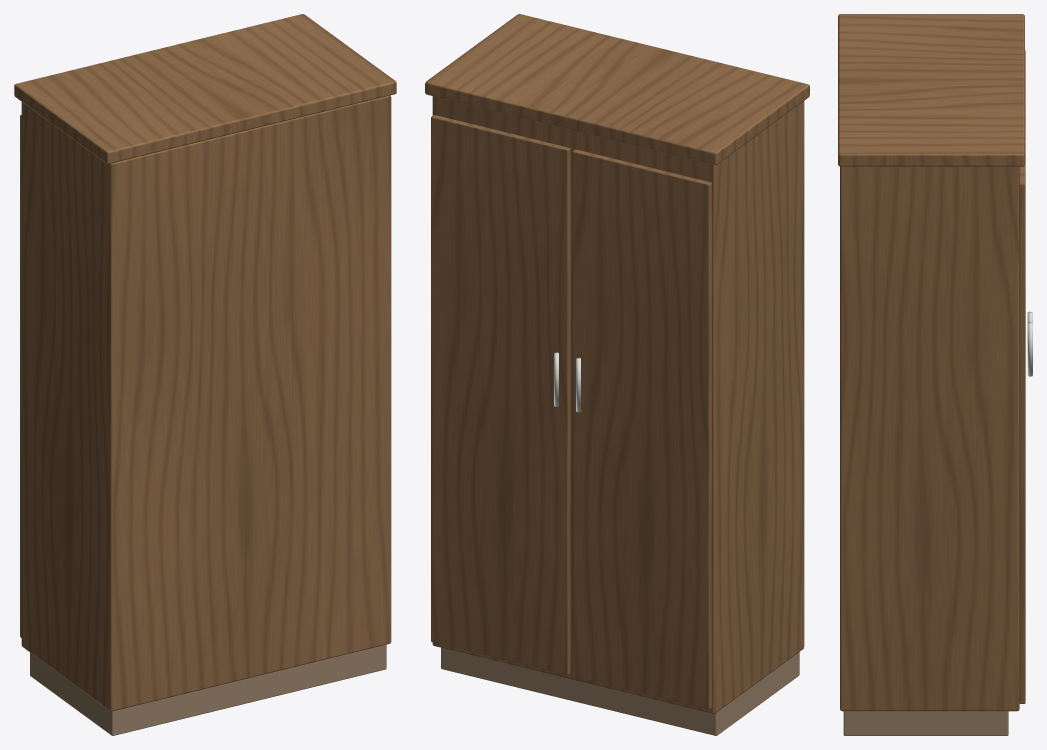
The model's file is mueble.ropero.fbx.
3 renders of one model, left to right at view 1: azimuth 30°, elevation 25°; view 2: azimuth 150°, elevation 25°; view 3: azimuth 270°, elevation 25°, orthographic.
Visible parts, largest first — view 1: Cuerpo, Cornisa, Zocalo, Puerta.001; view 2: Puerta.001, Puerta, Cuerpo, Cornisa, Zocalo; view 3: Cuerpo, Cornisa, Zocalo, Puerta.
Part boxes in pixels (left/top/right/bottom): Cuerpo: left=21, top=95, right=391, bottom=711; Cornisa: left=14, top=14, right=396, bottom=163; Zocalo: left=30, top=644, right=386, bottom=735; Puerta.001: left=20, top=114, right=21, bottom=637; Puerta.001: left=572, top=149, right=711, bottom=709; Puerta: left=431, top=115, right=570, bottom=675; Cuerpo: left=432, top=96, right=804, bottom=713; Cornisa: left=425, top=14, right=809, bottom=164; Zocalo: left=441, top=647, right=799, bottom=735; Cuerpo: left=840, top=166, right=1019, bottom=711; Cornisa: left=838, top=14, right=1024, bottom=166; Zocalo: left=843, top=711, right=1008, bottom=735; Puerta: left=1019, top=118, right=1025, bottom=703.
Bounding box in the file's own units: 0.93 × 1.8 × 0.542.
3 materials, 1 textured.
